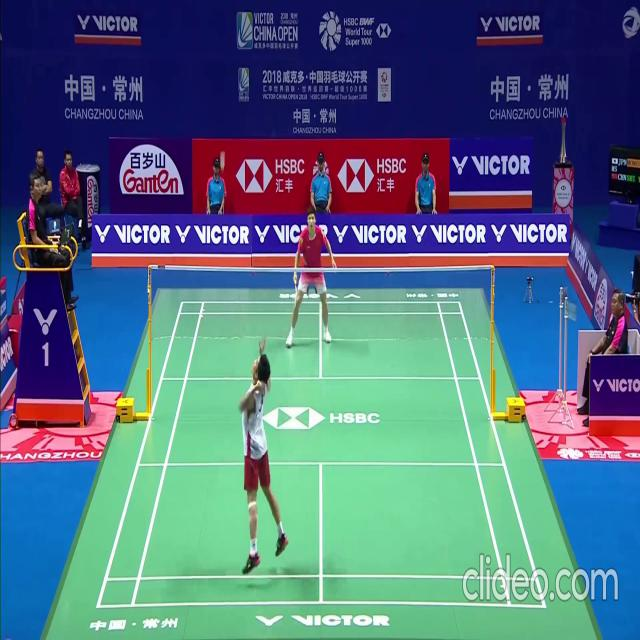Shuttlecock: (220, 163, 225, 171)
